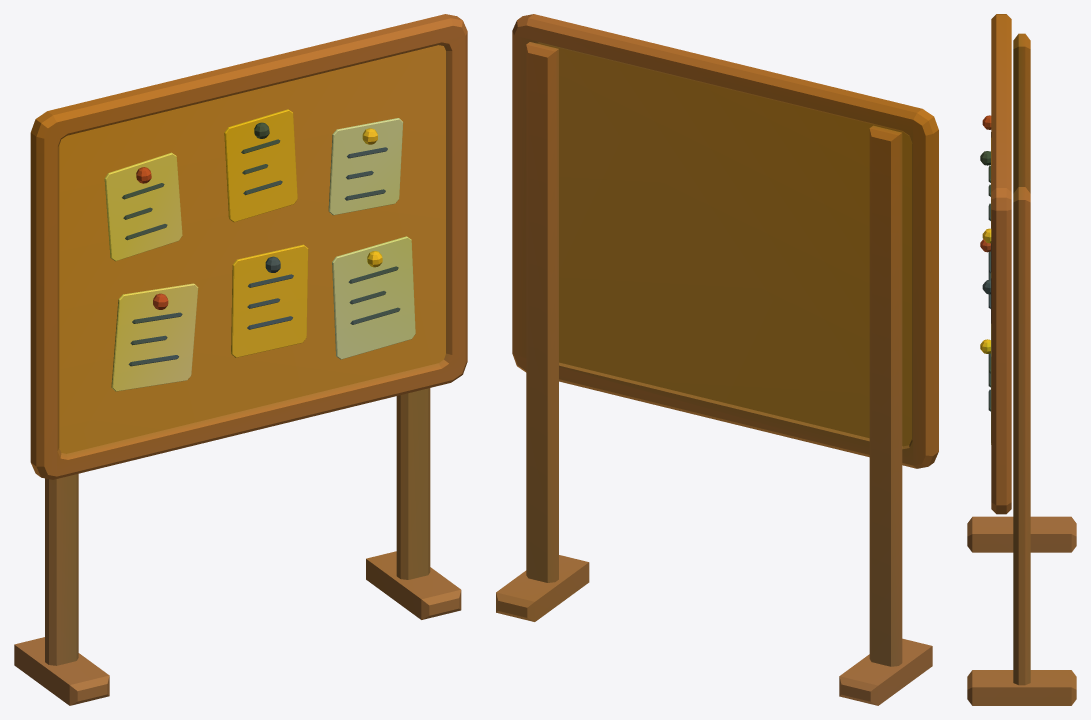
File: Prop_NoticeBoard.glb
The picture shows the model from 3 angles, left to right: view 1: azimuth 30°, elevation 25°; view 2: azimuth 150°, elevation 25°; view 3: azimuth 270°, elevation 25°; orthographic projection. The views are drawn at different scales.
Parts seen in each view (by area): view 1: Prop_NoticeBoard; view 2: Prop_NoticeBoard; view 3: Prop_NoticeBoard.
Part boxes in pixels (bbox=[...]): Prop_NoticeBoard: bbox=[14, 14, 467, 705]; Prop_NoticeBoard: bbox=[496, 14, 938, 705]; Prop_NoticeBoard: bbox=[967, 14, 1076, 705].
Size of the model in its own units: 1.3 by 1.67 by 0.32.
